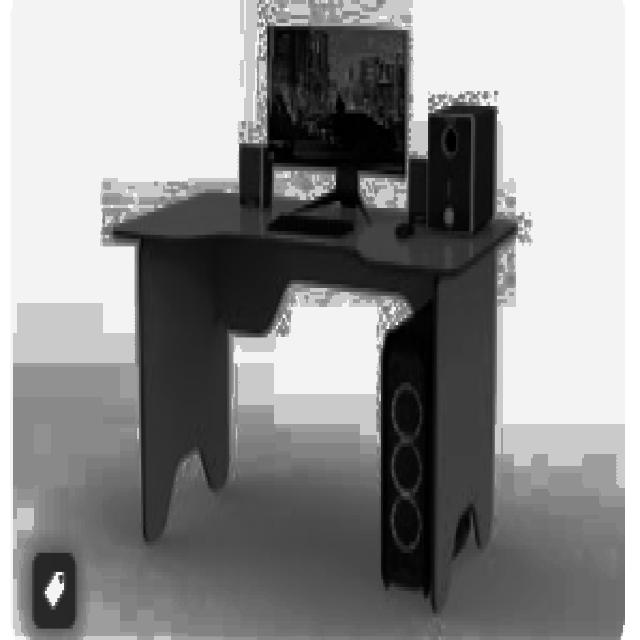table: (111, 189, 516, 610)
